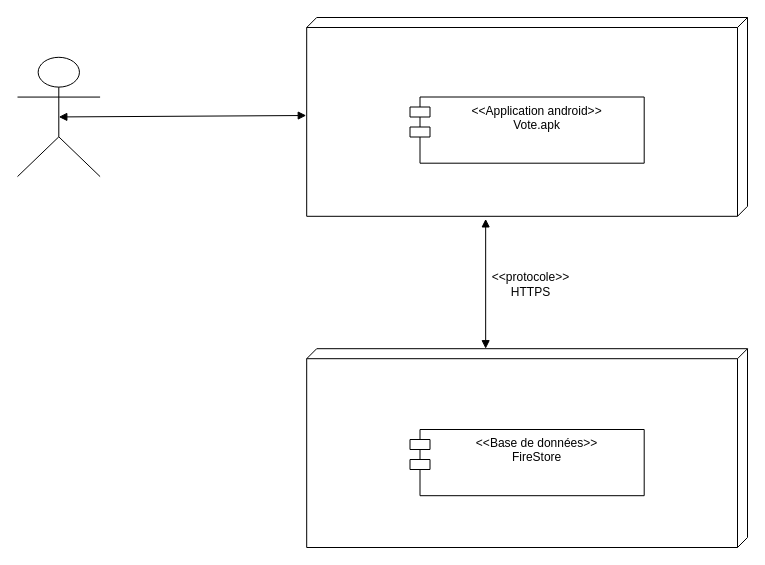
This 765x565 diagram has some shape labels left out. The box of each missing label's shape, as (x1, y1, x2, y2) in pixels:
Actor: (16, 56, 100, 177)
Serveur Firebase: (306, 348, 748, 548)
